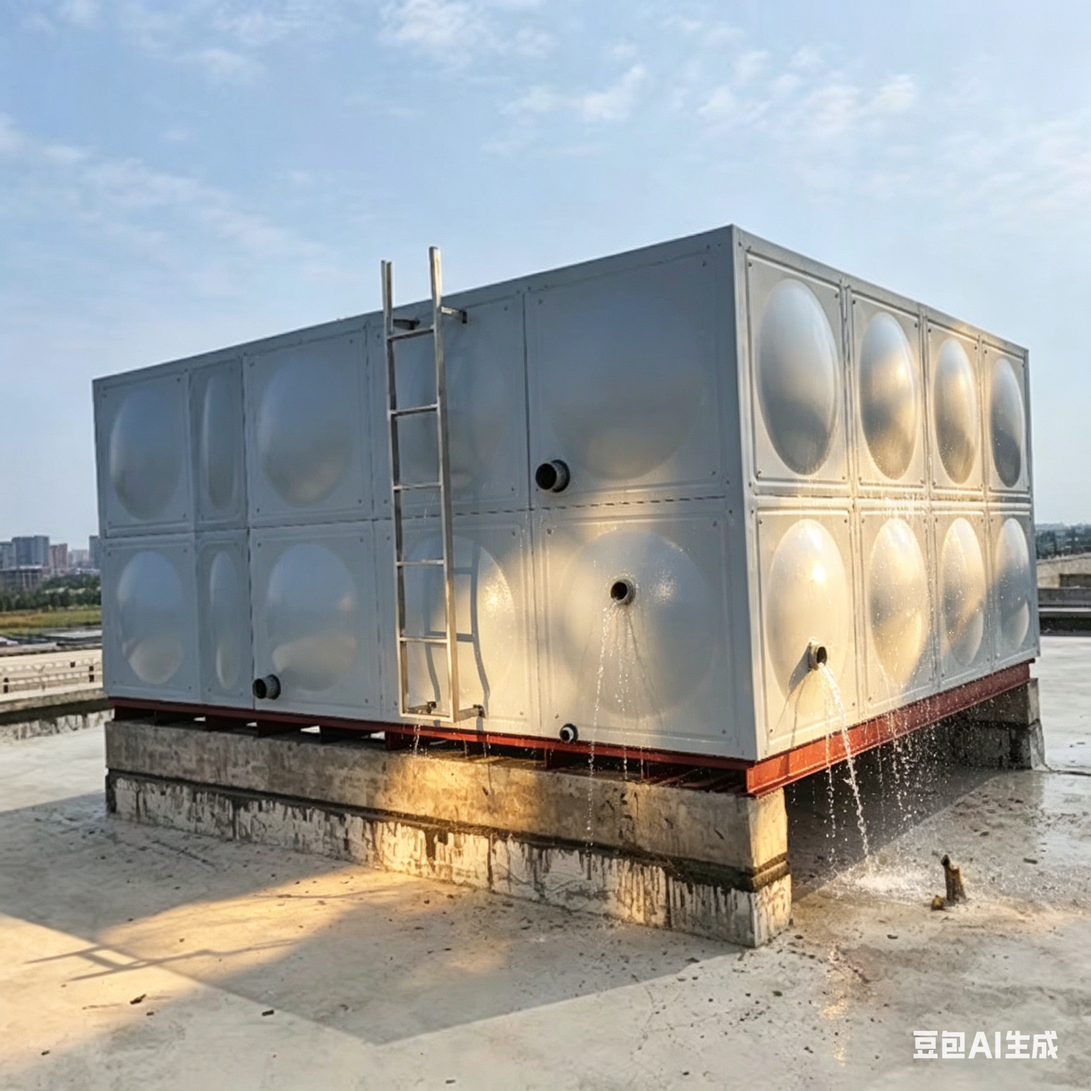Leakage: (810, 658, 945, 886), (580, 598, 658, 874)
